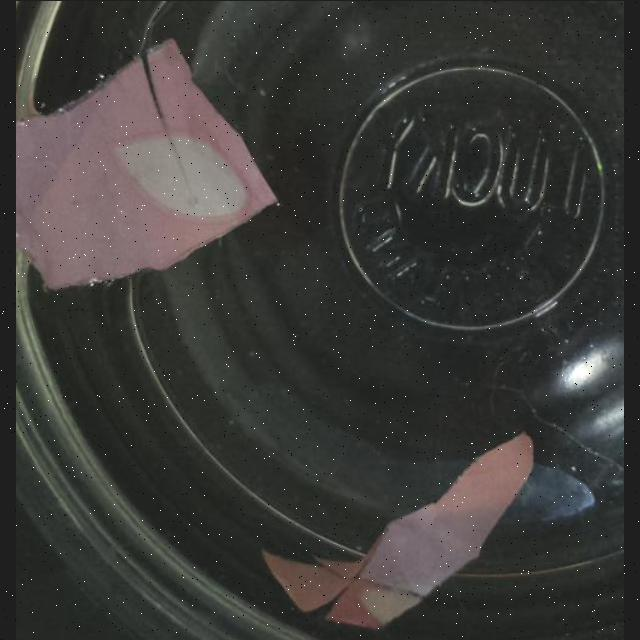Fragment: (17, 32, 276, 294), (260, 434, 536, 628)
